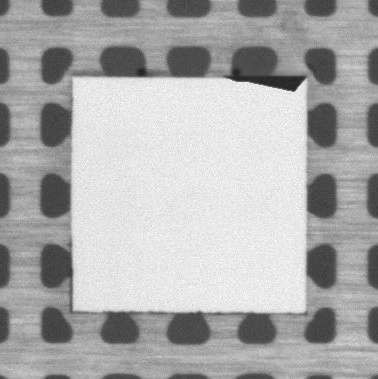DIE_BROKEN: (223, 72, 308, 94)
